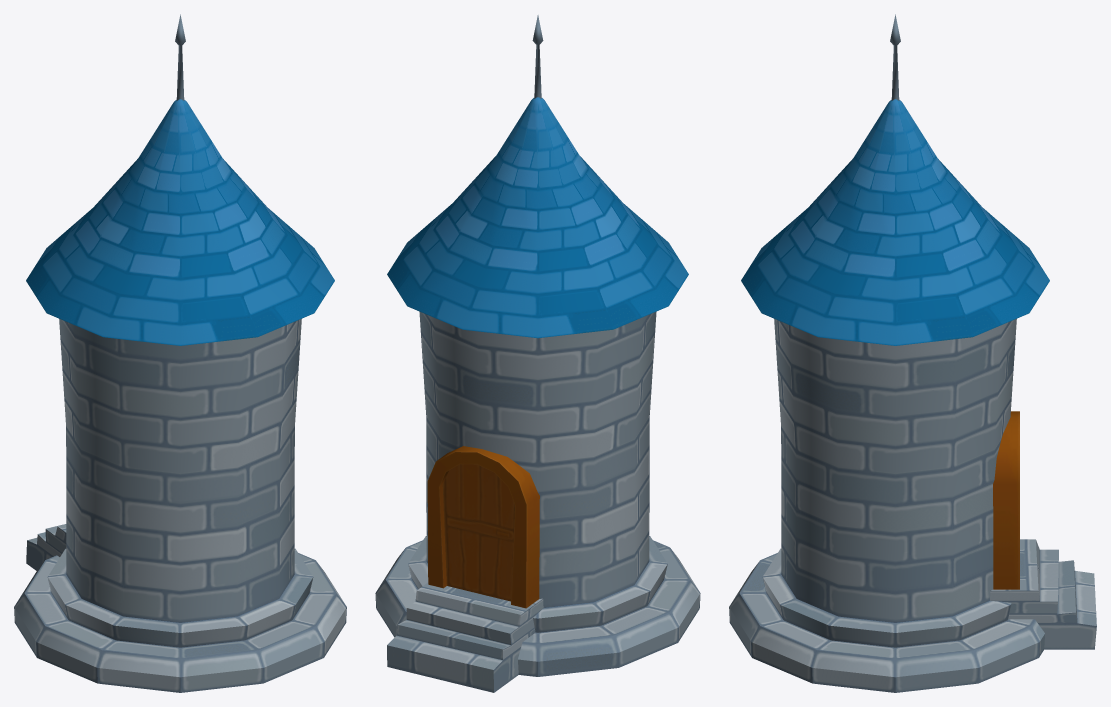
The model's file is HOS0110029.fbx.
3 views of the same model, side by side, from view 1: azimuth 30°, elevation 25°; view 2: azimuth 150°, elevation 25°; view 3: azimuth 270°, elevation 25° (orthographic). The views are drawn at different scales.
Visible parts, largest first — view 1: smHOS0110029; view 2: smHOS0110029; view 3: smHOS0110029.
Boxes of the visible parts, <box> form: smHOS0110029: <box>14,14,346,692</box>; smHOS0110029: <box>375,15,700,692</box>; smHOS0110029: <box>729,14,1096,692</box>.
Size of the model in its own units: 462 by 933 by 511.
Materials: 1 (1 with a texture image).
